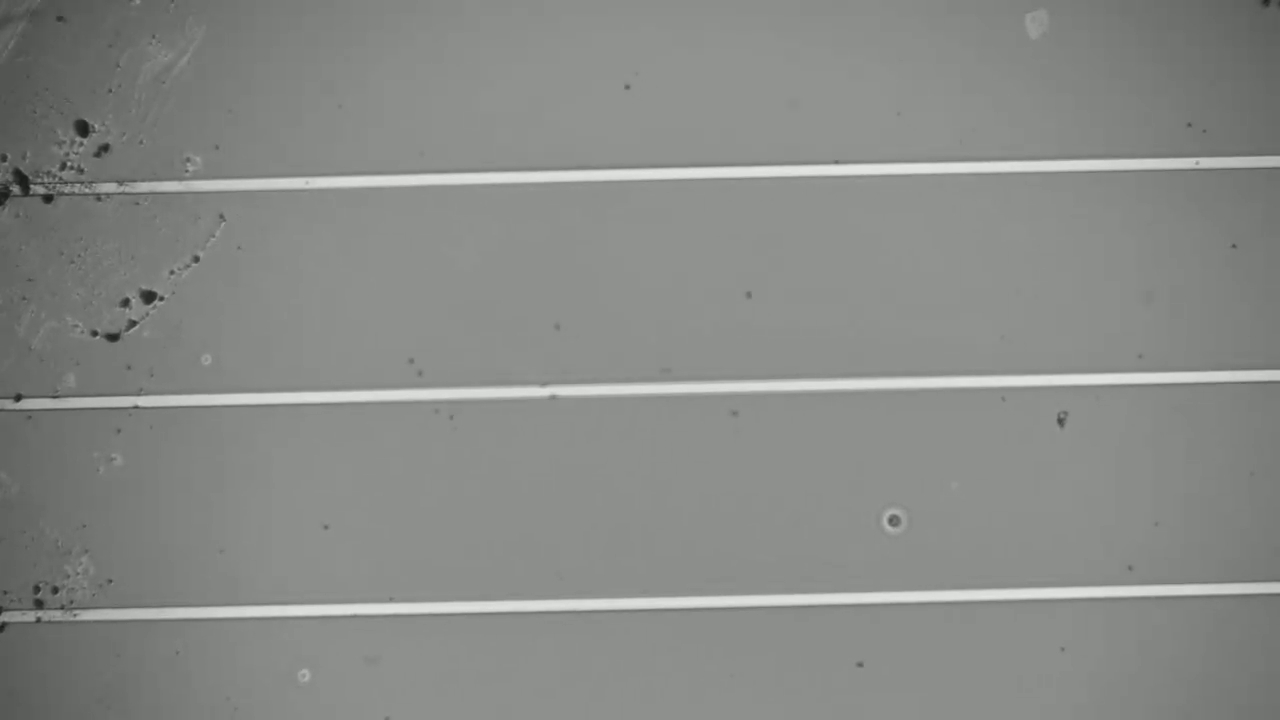stains_enbedded: (1, 175, 22, 214)
